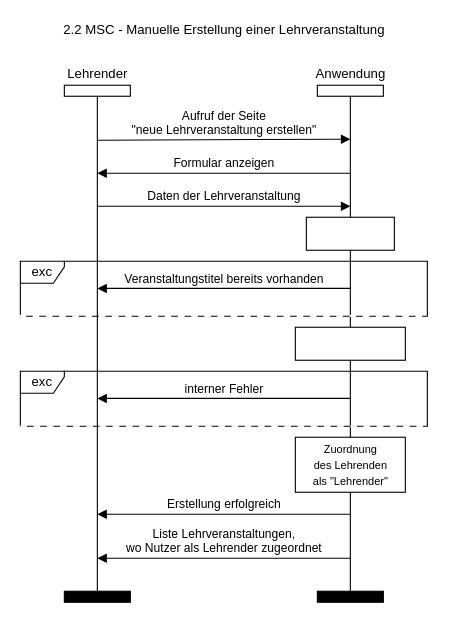
This 450x622 diagram has some shape labels left out. The box of each missing label's shape, as (x1, y1, x2, y2) in pixels:
Erstellung der Lehrveranstaltung: (294, 326, 405, 360)
Überprüfung der Daten: (305, 216, 394, 250)
